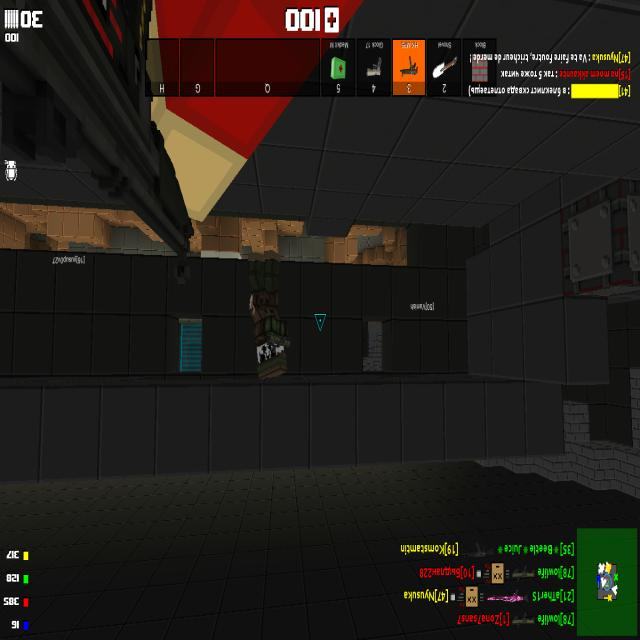enemy: (248, 254, 291, 380)
